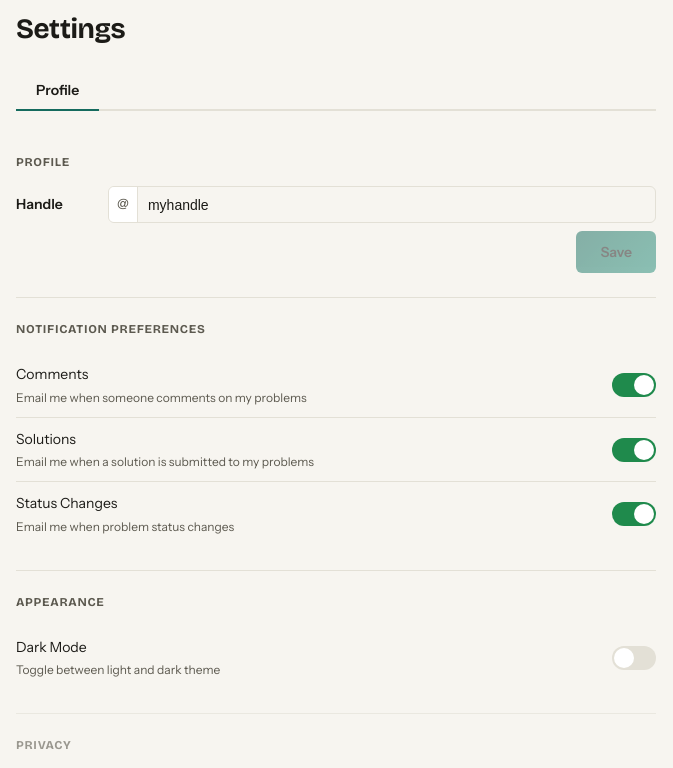
Test: Settings page — handle edit › 409 response renders 'already taken' message
Replace the text in the field labelled "Handle" with "newhandle" at (396, 205), box left=138, top=191, right=655, bottom=219
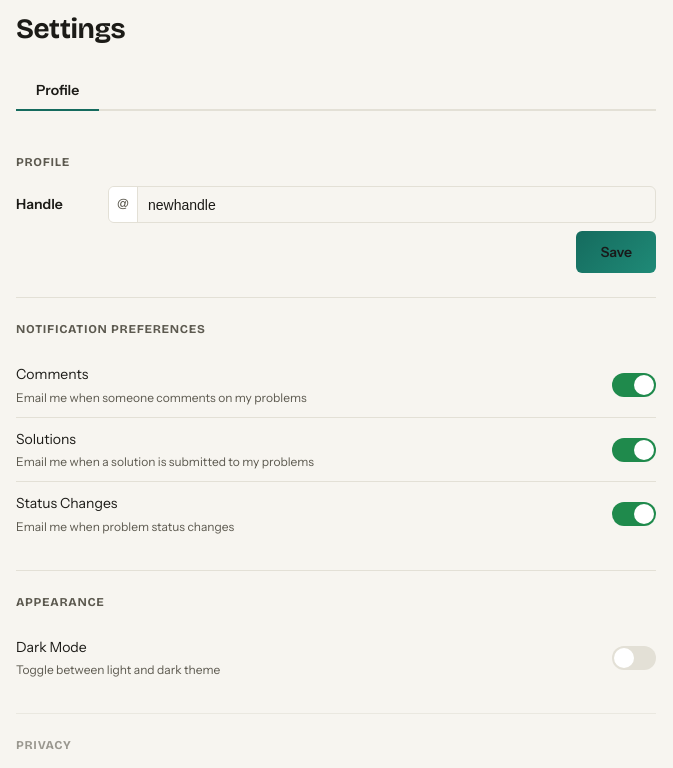
Click the button "Save".
click(616, 252)  # box left=576, top=231, right=656, bottom=273
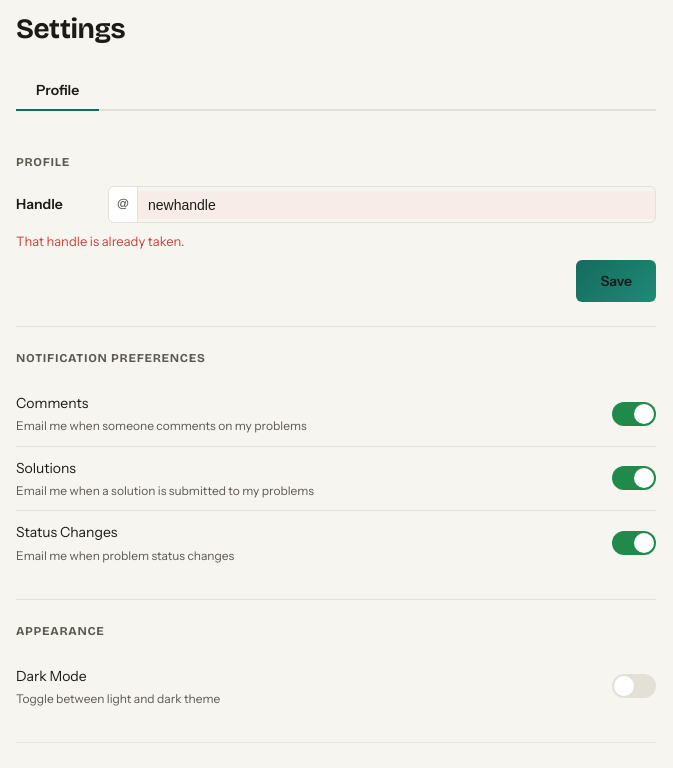
Check: the text "That handle is already taken." is shown, box left=16, top=233, right=184, bottom=249
